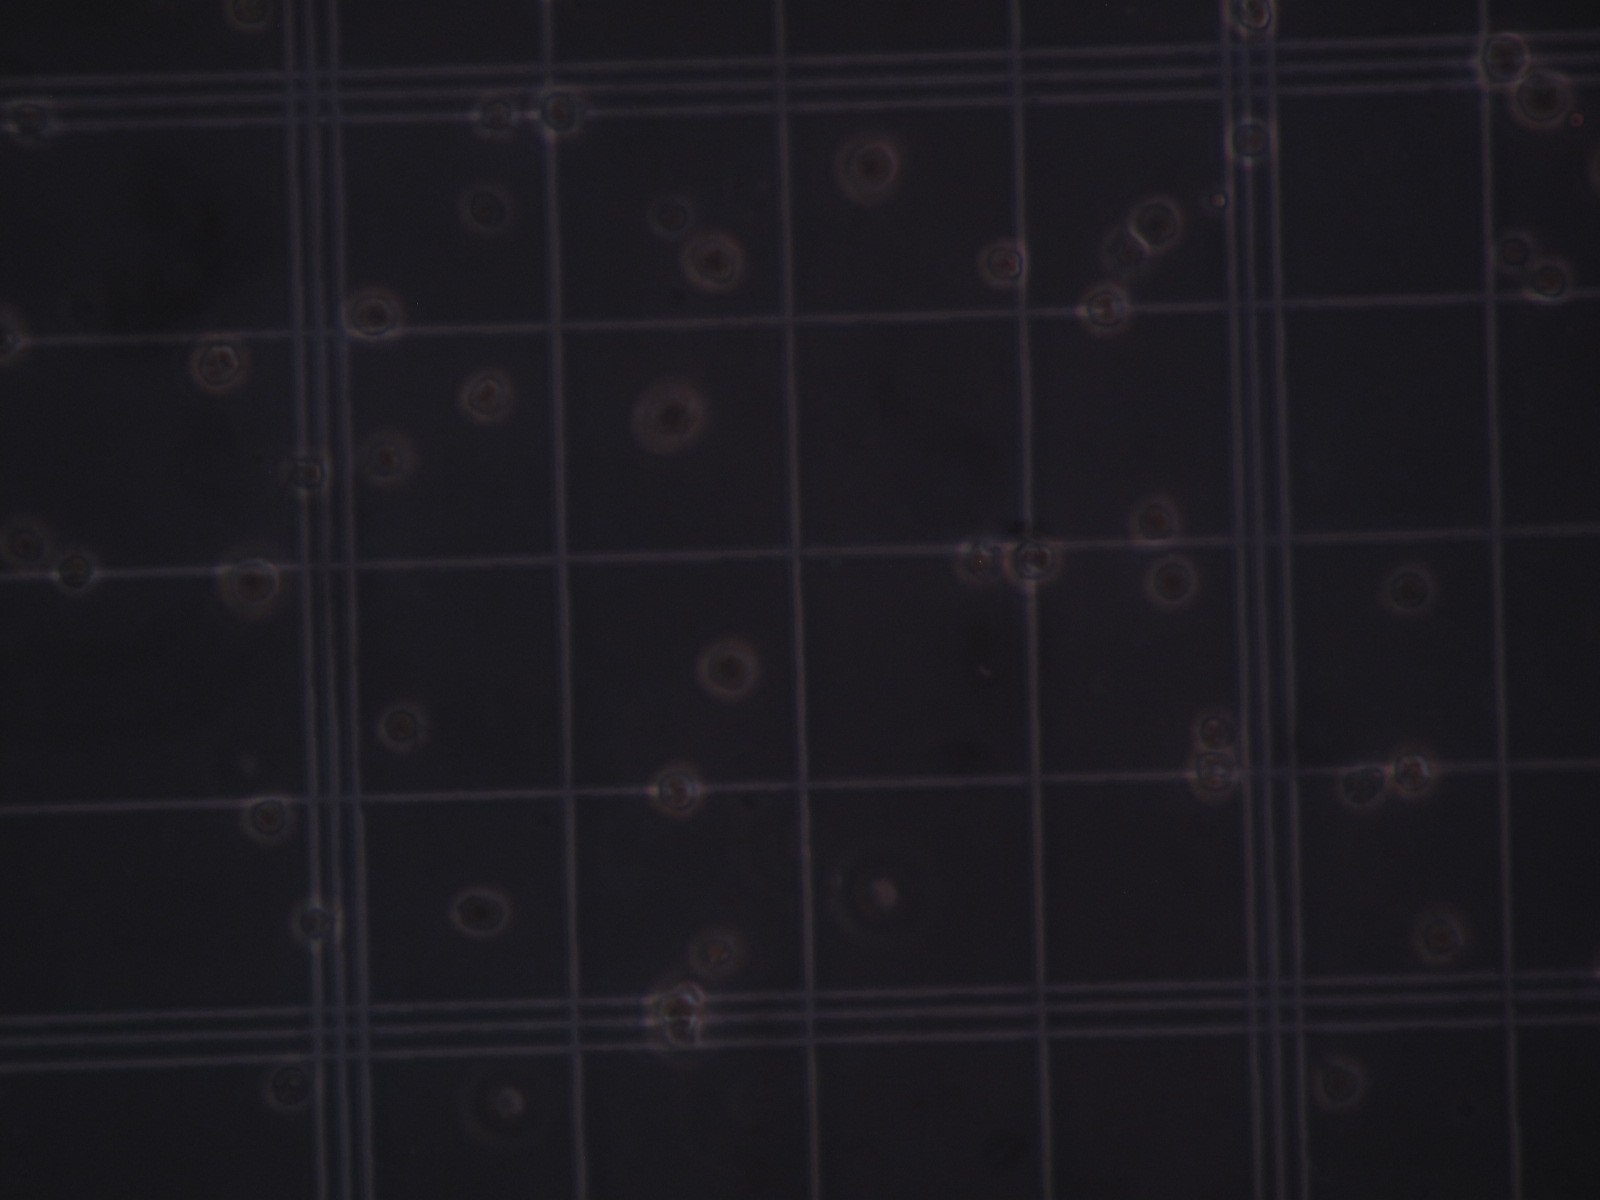hemo: (825, 850, 901, 938), (454, 1061, 524, 1142), (631, 377, 707, 451), (643, 976, 706, 1054), (214, 545, 281, 615), (835, 132, 897, 205), (1513, 66, 1571, 129), (189, 334, 249, 393), (697, 639, 758, 697), (355, 431, 417, 489), (341, 287, 407, 342), (1473, 30, 1531, 91), (1128, 195, 1186, 255), (1101, 224, 1157, 284), (533, 82, 587, 142), (1002, 534, 1063, 587), (680, 239, 742, 292), (1126, 492, 1183, 547), (459, 368, 513, 426), (648, 763, 704, 817), (459, 182, 515, 236), (1078, 282, 1134, 337), (238, 792, 294, 846), (266, 1056, 316, 1116), (1311, 1058, 1364, 1113), (1414, 909, 1466, 964), (1380, 565, 1437, 614), (449, 889, 508, 937), (1186, 750, 1240, 802), (1144, 558, 1198, 610), (285, 444, 334, 499), (1, 96, 57, 145), (975, 239, 1029, 289), (467, 89, 522, 139), (1390, 744, 1437, 799), (1225, 115, 1276, 165), (952, 533, 1004, 584), (377, 700, 425, 753), (645, 192, 695, 239), (1335, 765, 1390, 809), (688, 932, 738, 978), (292, 900, 339, 949), (1492, 227, 1540, 274), (47, 550, 100, 591), (1218, 1, 1277, 38), (4, 516, 49, 562), (1526, 258, 1574, 303), (1193, 708, 1238, 754), (1, 304, 31, 362), (226, 1, 277, 30)
